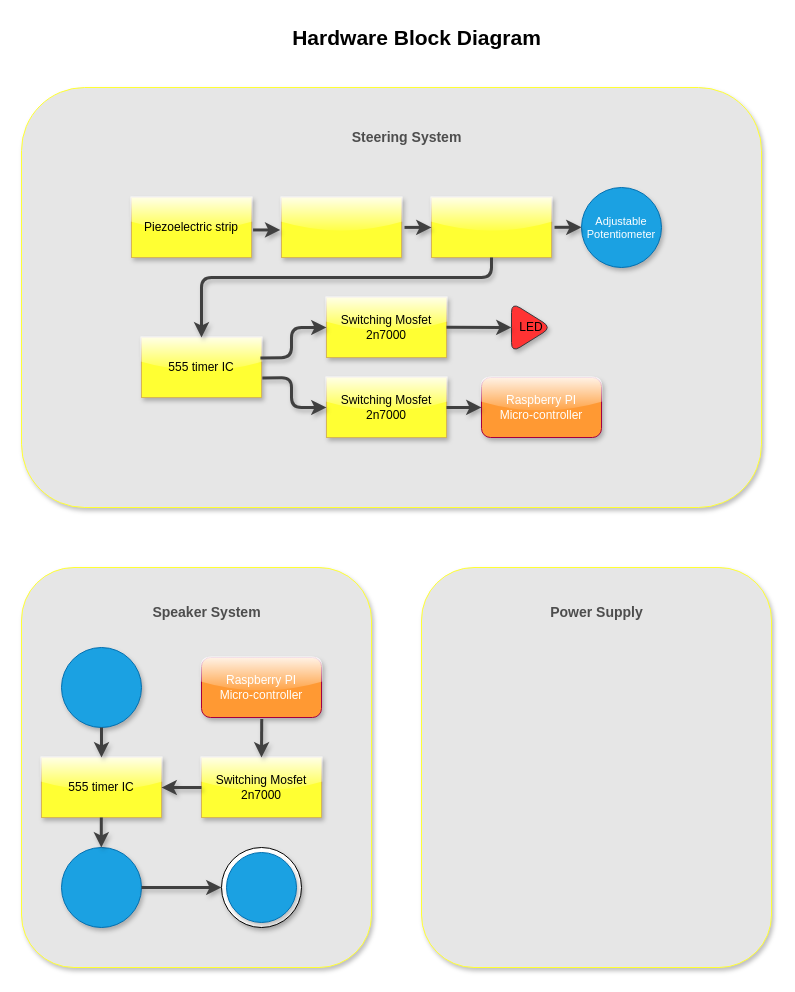
Image size: 795x992. Some labels were removed from this diagram. Each missing label, with the centre of its shape:
"Adjustable Potentiometer (for tone)" goes at [102,688].
"Adjustable Potentiometer (for volume)" goes at [102,888].
"Comparator" goes at [492,228].
"Op-amp signal amplifier" goes at [342,228].
"Speaker" goes at [262,889].
